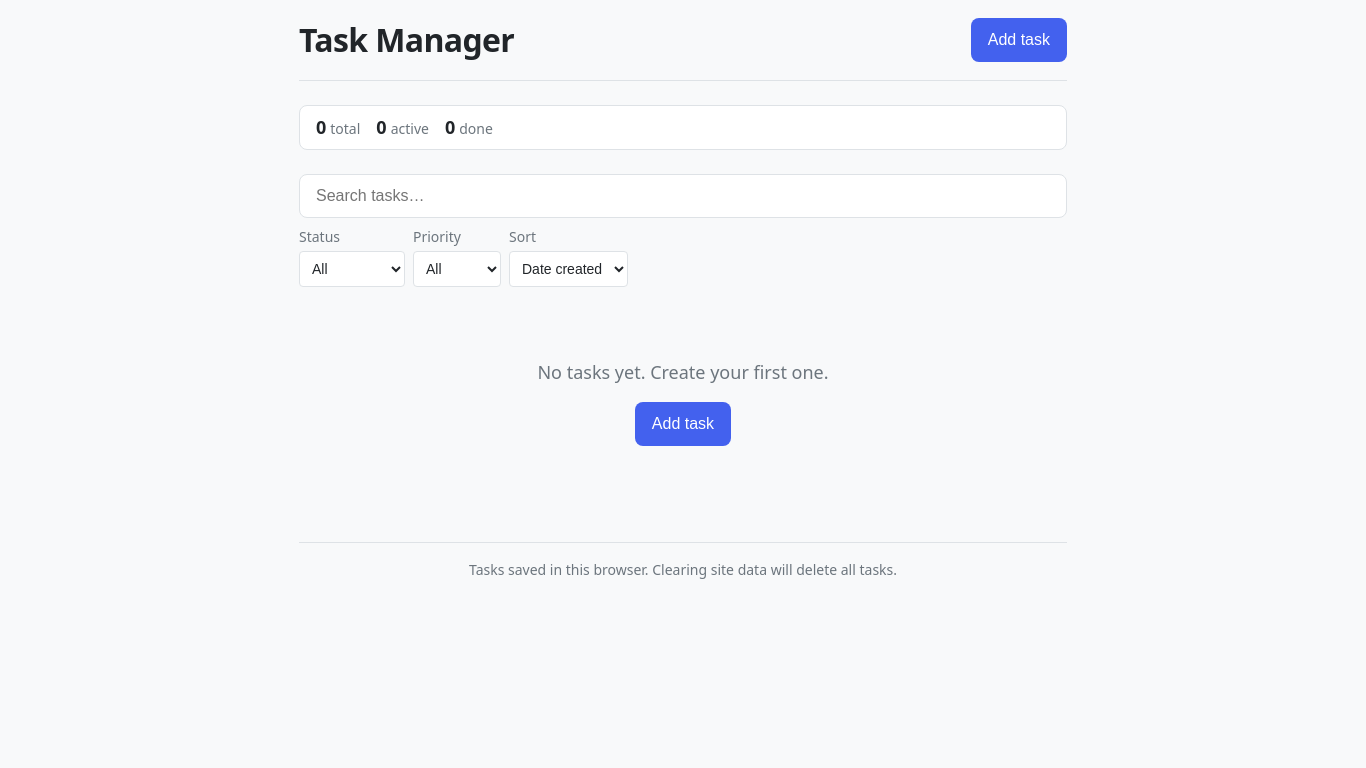
Test: App integration › deletes a task after confirmation
The width and height of the screenshot is (1366, 768).
Click the button "Add task" in the row of "Task Manager" at (1019, 40), box [971, 18, 1067, 62]
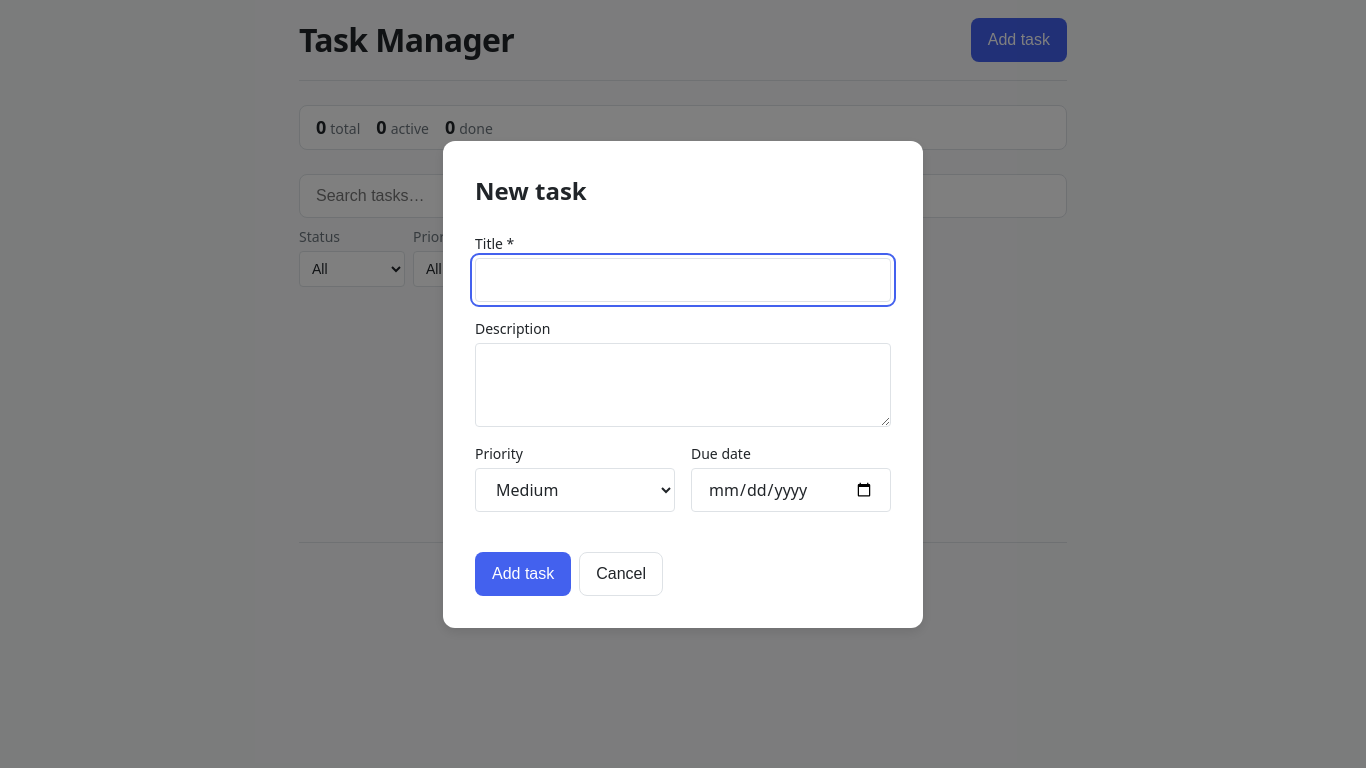
Type "Delete me" into the field labelled "Title *" at (683, 280), box [475, 258, 891, 302]
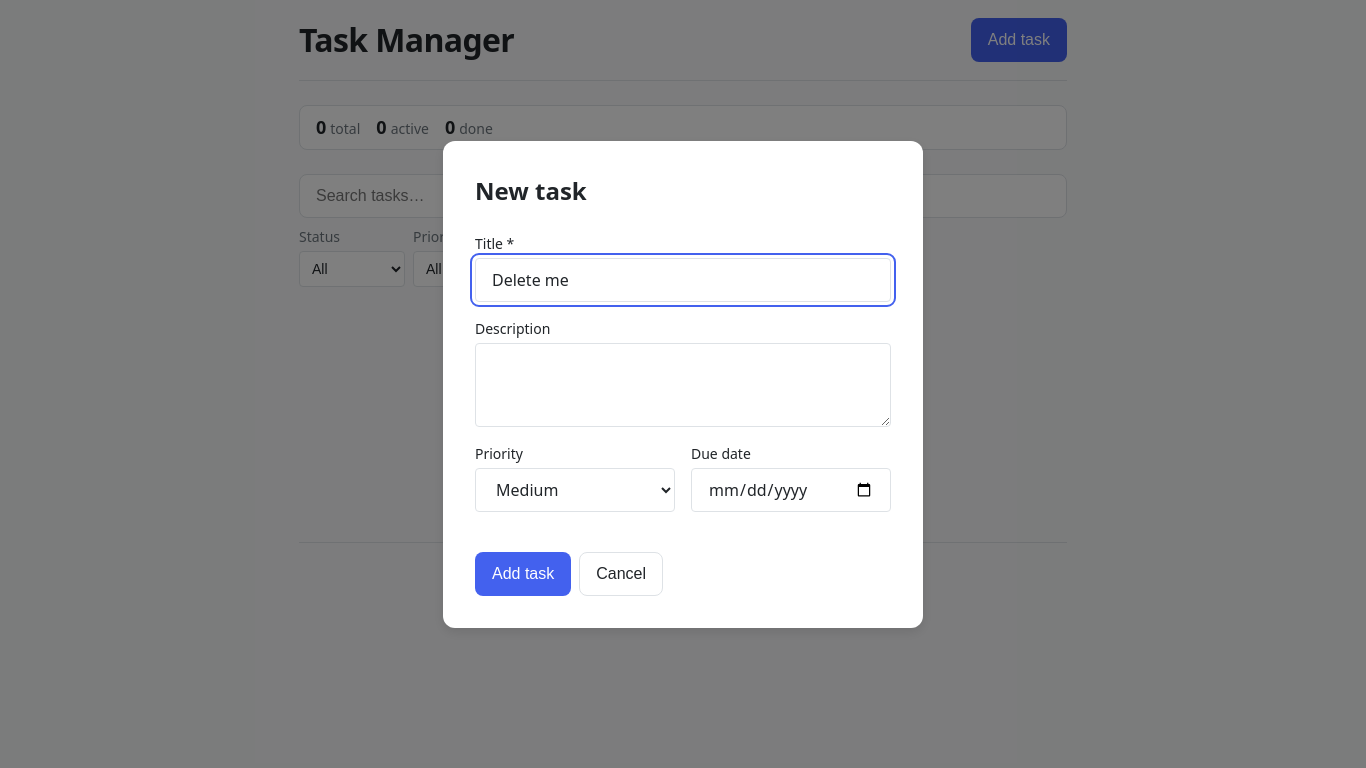
Click the button "Add task" at (523, 574), box [475, 552, 571, 596]
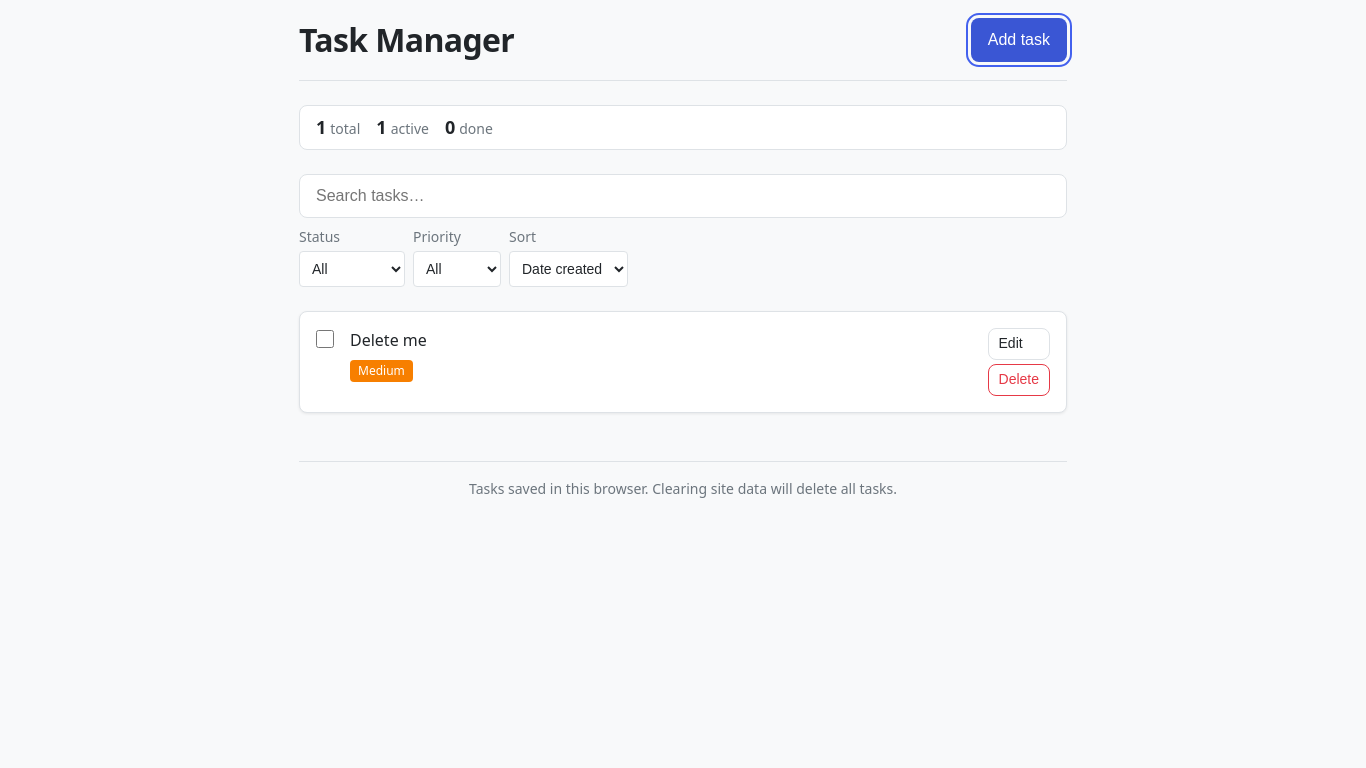
Click the button with aria-label "delete task: delete me" at (1019, 380), box [988, 364, 1050, 396]
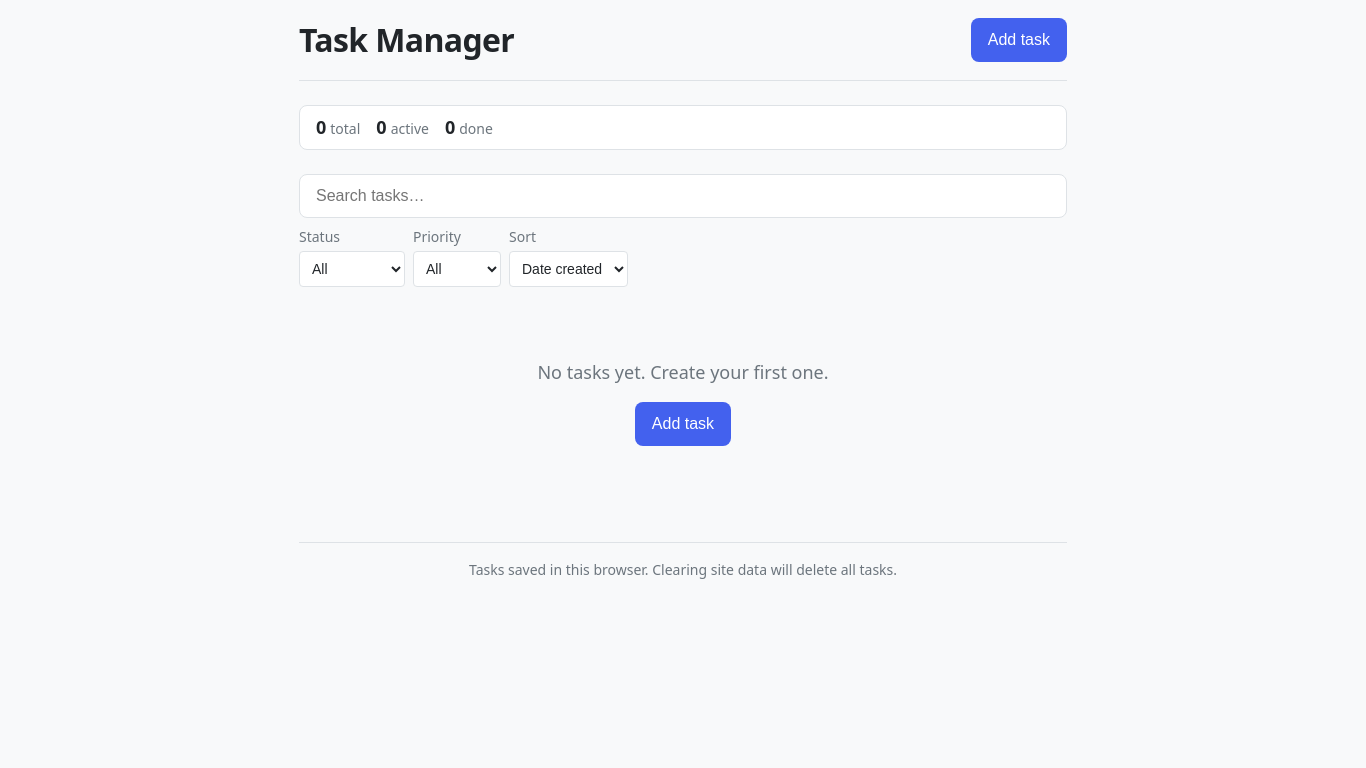
expect the text "Delete me" is gone: met
